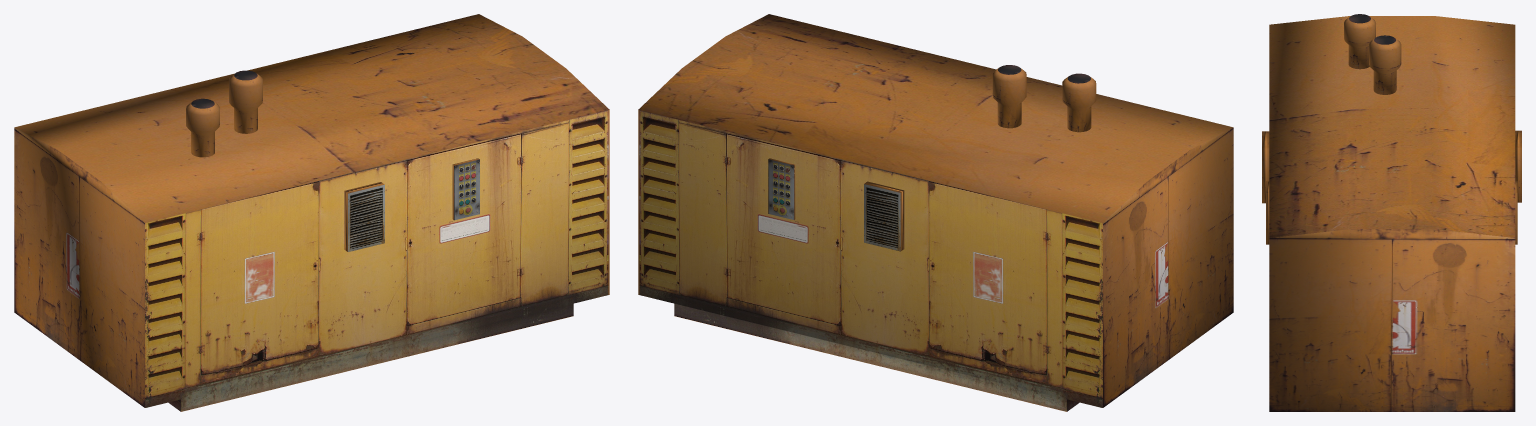
File: generator01.fbx
The picture shows the model from 3 angles, left to right: view 1: azimuth 30°, elevation 25°; view 2: azimuth 150°, elevation 25°; view 3: azimuth 270°, elevation 25°; orthographic projection. The views are drawn at different scales.
Parts seen in each view (by area): view 1: body; view 2: body; view 3: body.
Part boxes in pixels (x1=…): body: x1=14, y1=14, x2=609, y2=411; body: x1=638, y1=14, x2=1233, y2=411; body: x1=1262, y1=14, x2=1521, y2=411.
Size of the model in its own units: 454 by 243 by 234.
1 material, 1 textured.
